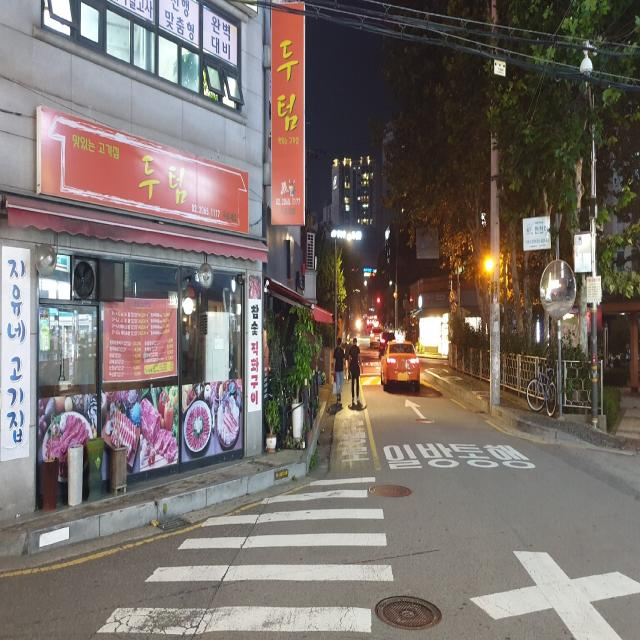횡단보도: (94, 472, 396, 638)
